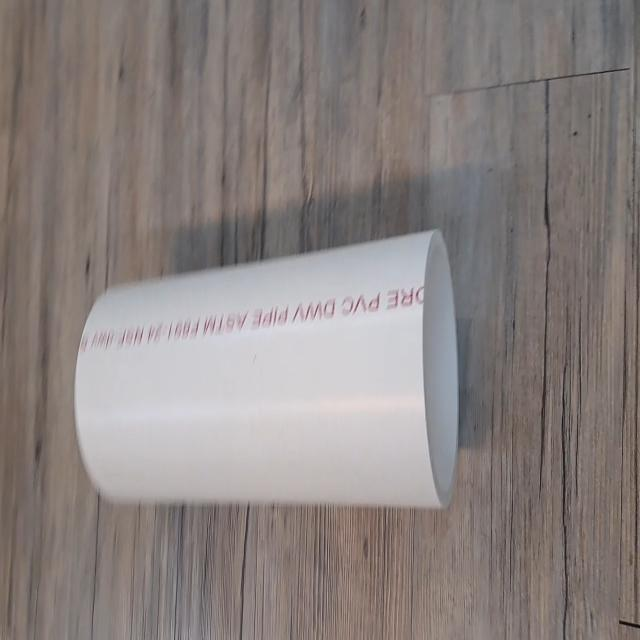CORAL: (72, 221, 466, 520)
